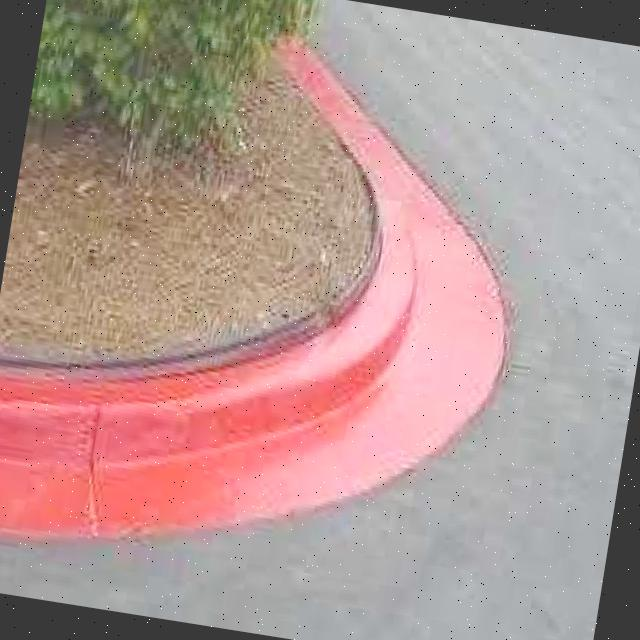curb: (1, 358, 232, 467), (348, 213, 432, 396), (262, 344, 408, 441), (191, 368, 337, 450)
